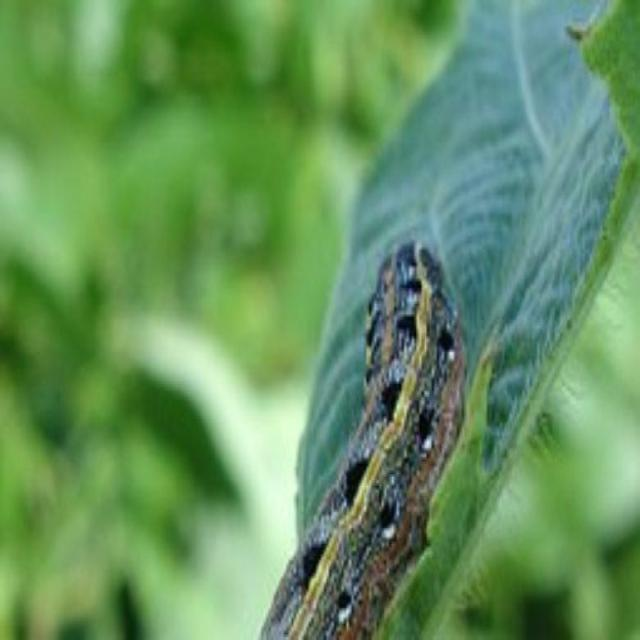army worm: (252, 237, 465, 638)
